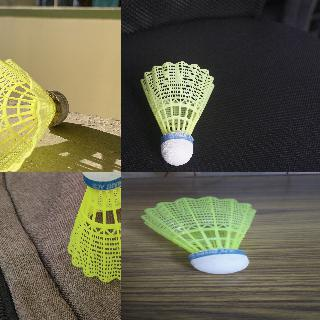shuttlecock: (141, 194, 256, 273), (0, 55, 69, 171), (139, 62, 213, 166), (67, 172, 120, 282)
